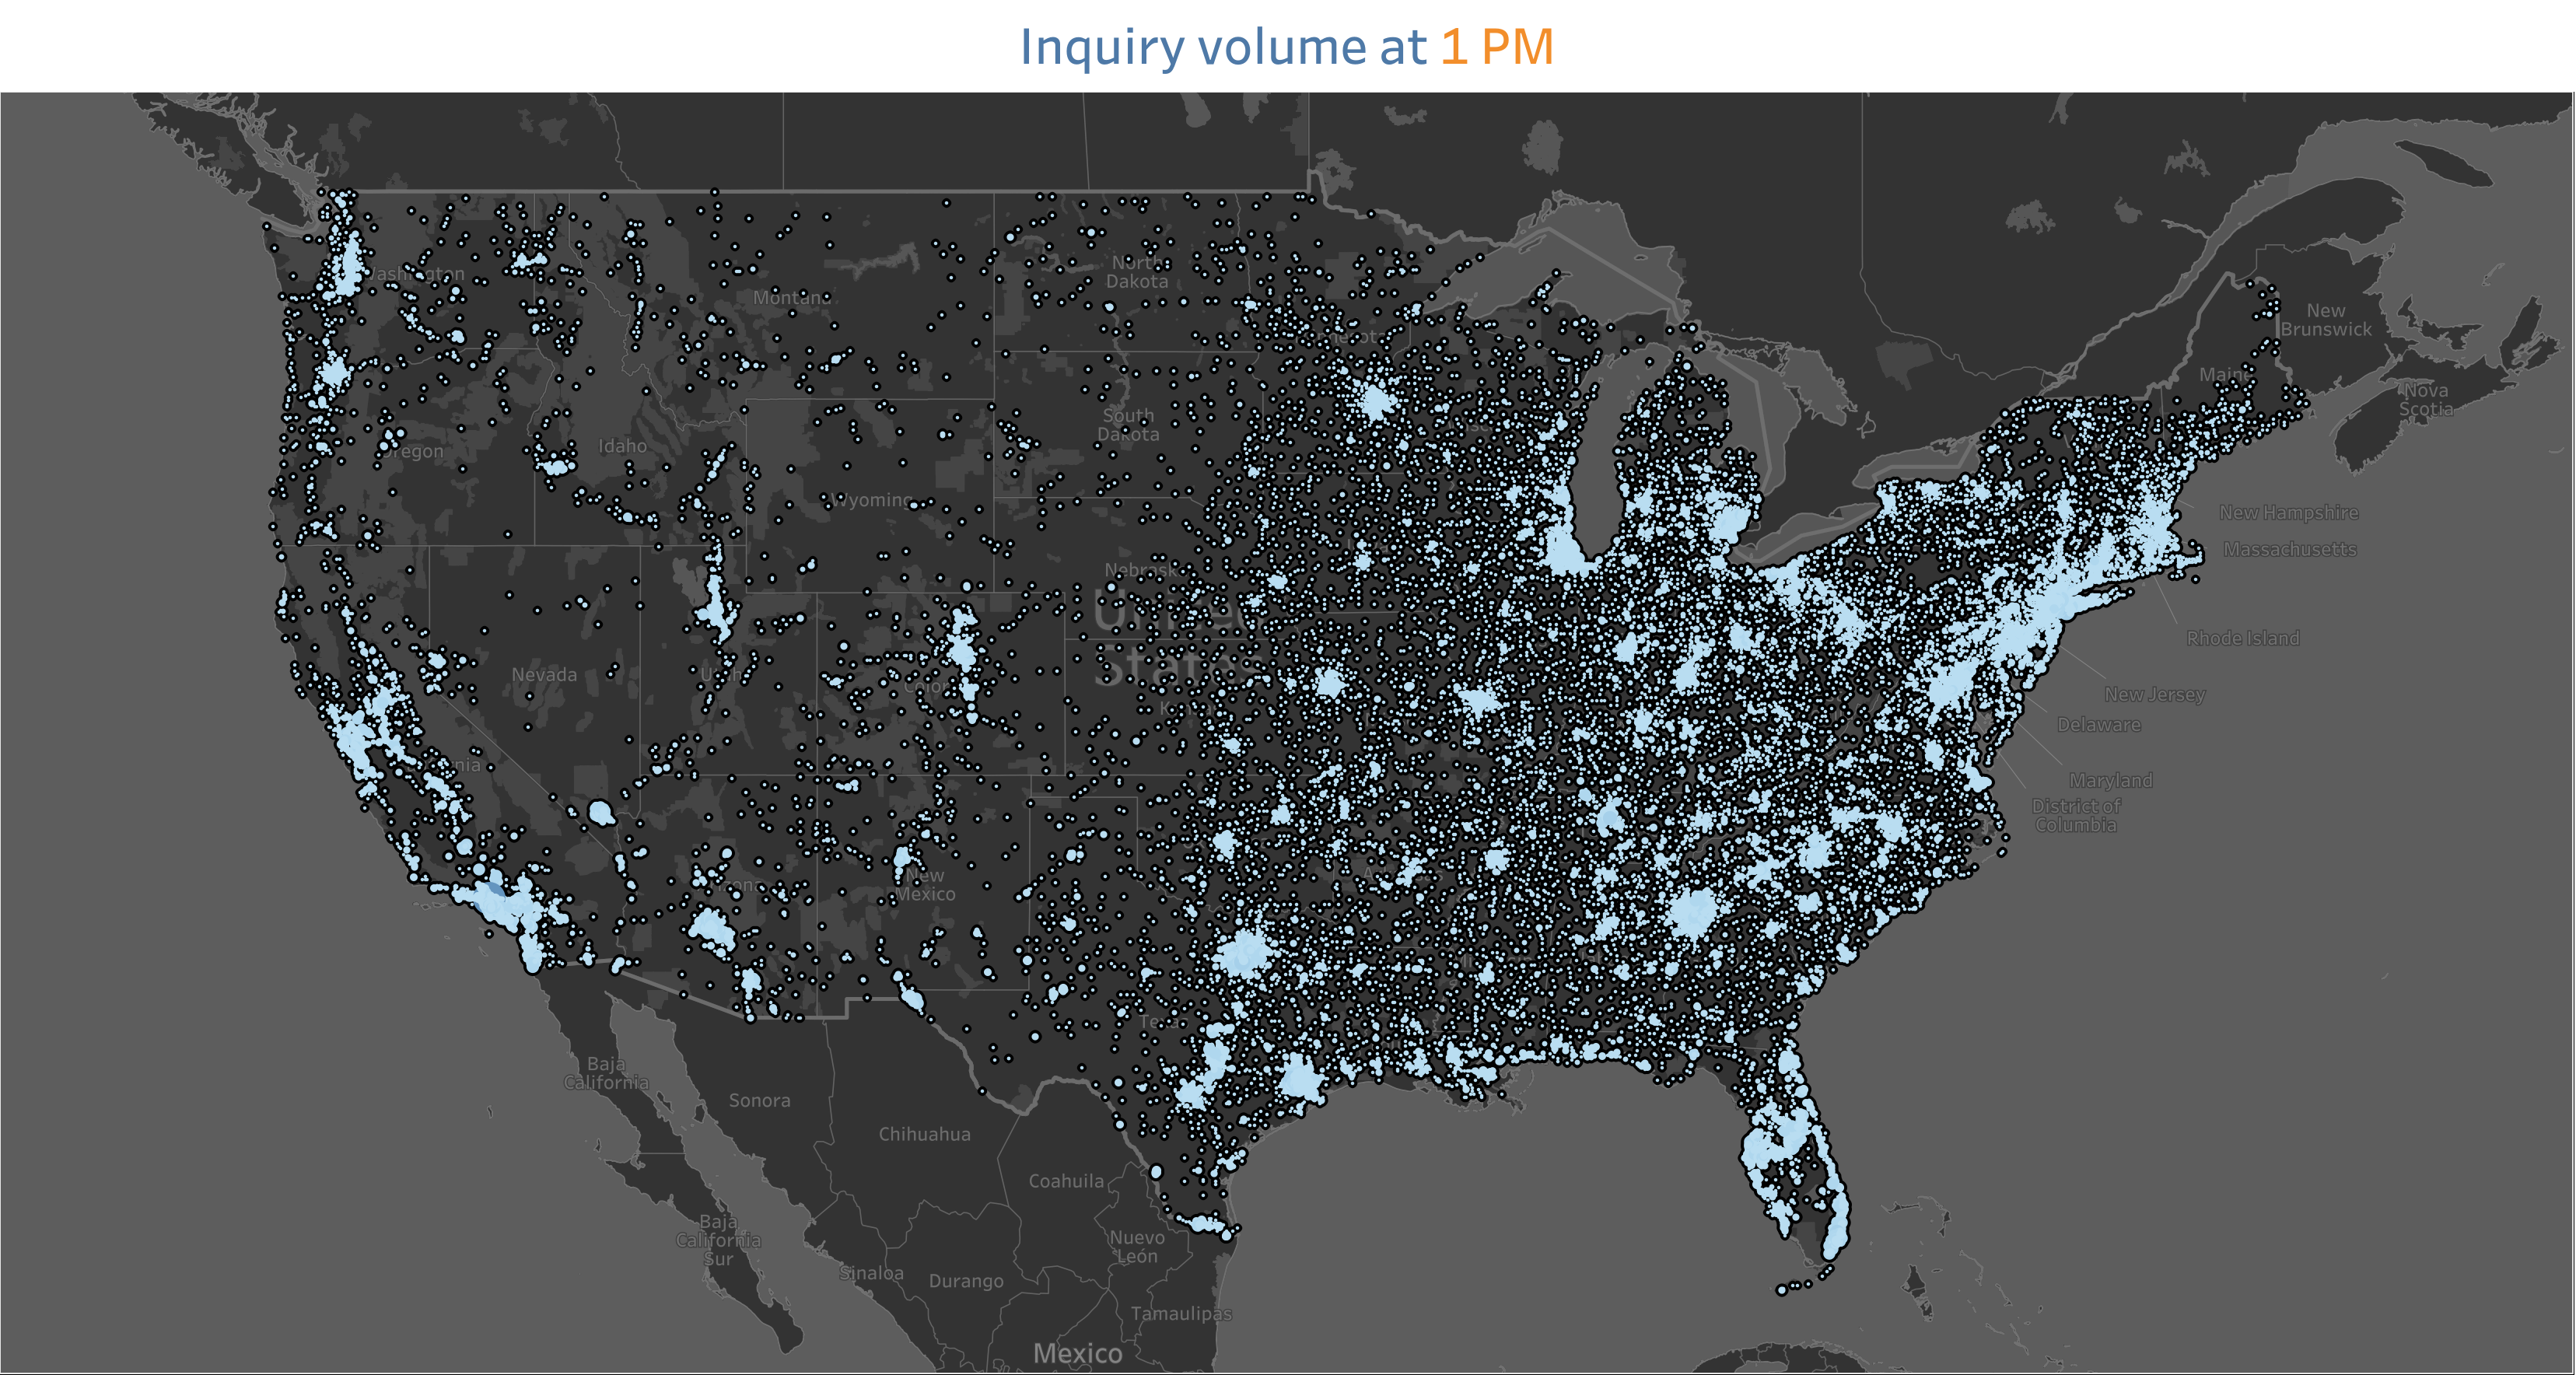

The page's visual inventory and layout, read from the dashboard file:
{"tool":"tableau","page":{"name":"Dashboard 1","canvas":[1000,1000],"units":"permille","ordinal":0},"visuals":[{"type":"worksheet","title":"Sheet 1","mark":"Automatic","box":[4.7,8.8,990.6,982.3]},{"type":"currpage","title":"Sheet 1","box":[883,30.9,87.8,105]}]}

Visuals, with their boxes on the dashboard's canvas, which has no fixed pixel size, in thousandths of its width and height (x1, y1, x2, y2). These are canvas units, not pixel positions in the 2576x1375 screenshot, which may show the page scaled, cropped or inside an application window:
"Sheet 1" worksheet: [left=5, top=9, right=995, bottom=991]
"Sheet 1" currpage: [left=883, top=31, right=971, bottom=136]
